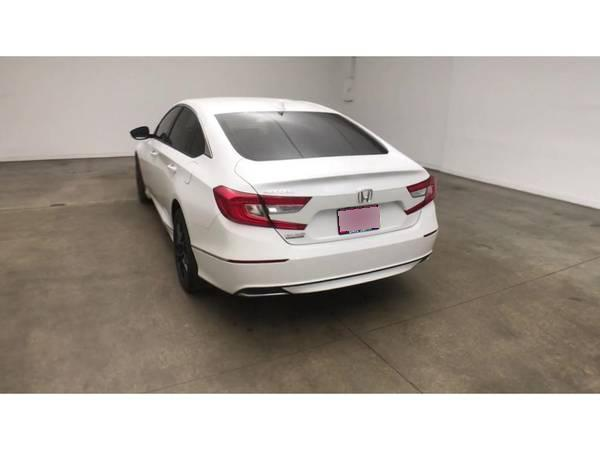Front_Left_Door: (140, 137, 165, 197)
Front_Left_Window: (152, 103, 184, 143)
Left_Taillight: (214, 185, 312, 231)
Rear_Bumper: (191, 201, 436, 295)
Rear_Fender: (175, 154, 260, 240)
Rear_Left_Door: (152, 142, 193, 235)
Rear_Left_Window: (166, 106, 209, 160)
Rear_Windshield: (214, 113, 403, 166)
Right_Taillight: (403, 177, 436, 217)
Roof: (172, 97, 337, 161)
Tailgate: (239, 155, 431, 245)
Wheel: (173, 219, 196, 294)
